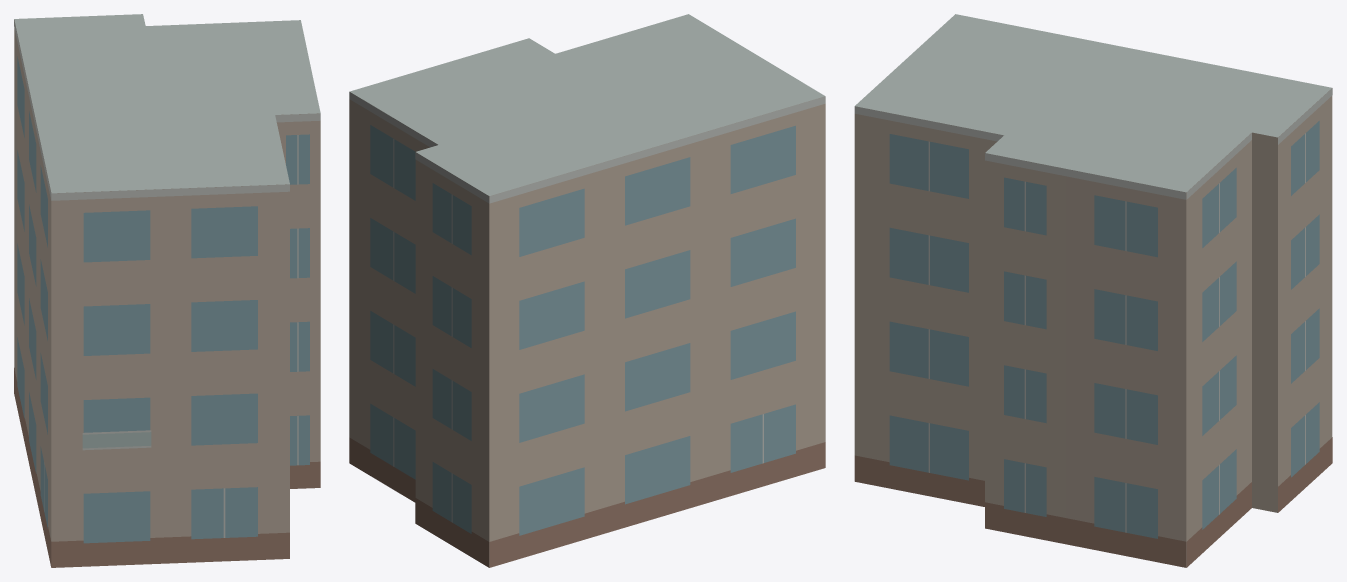
The model's file is residential-e8c42426-7e91-4ff8-8b97-c9360657ad52.glb.
The picture shows the model from 3 angles, left to right: view 1: azimuth 30°, elevation 25°; view 2: azimuth 150°, elevation 25°; view 3: azimuth 270°, elevation 25°; orthographic projection.
Visible parts, largest first — view 1: residential-e8c42426-7e91-4ff8-8b97-c9360657ad52.tmp; view 2: residential-e8c42426-7e91-4ff8-8b97-c9360657ad52.tmp; view 3: residential-e8c42426-7e91-4ff8-8b97-c9360657ad52.tmp.
Boxes of the visible parts, x1,y1,x2,y2 form: residential-e8c42426-7e91-4ff8-8b97-c9360657ad52.tmp: [14, 14, 320, 567]; residential-e8c42426-7e91-4ff8-8b97-c9360657ad52.tmp: [349, 14, 825, 567]; residential-e8c42426-7e91-4ff8-8b97-c9360657ad52.tmp: [854, 14, 1332, 567].
Size of the model in its own units: 12.44 by 12.2 by 14.08.
